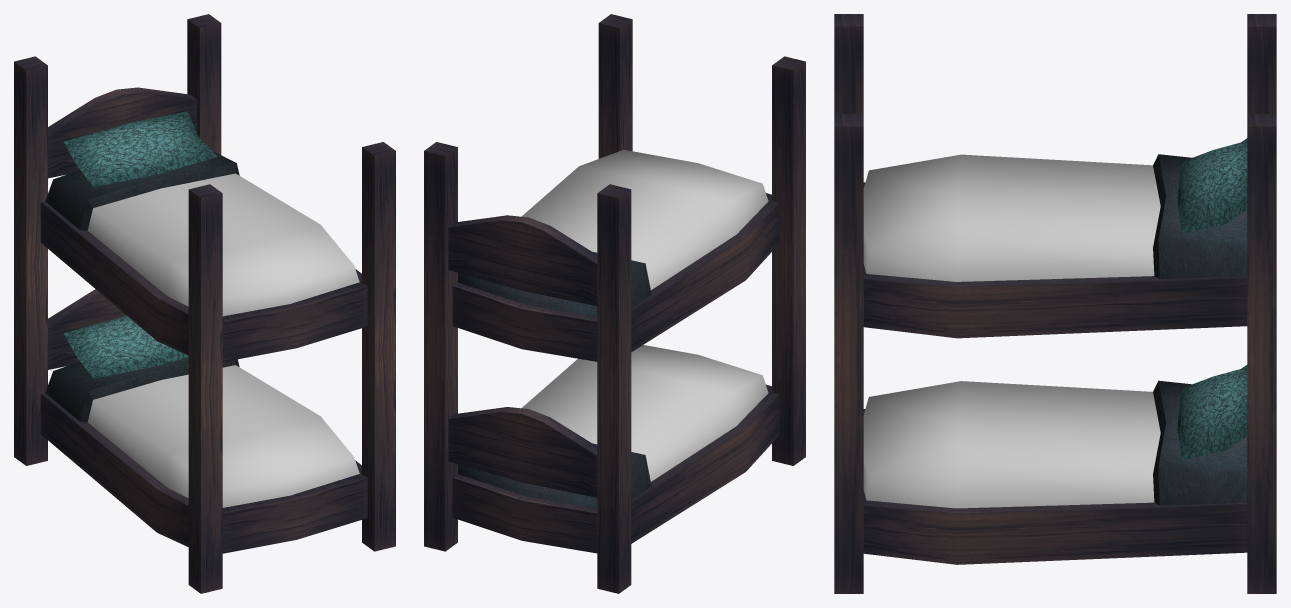
Rendered from Bed_Bunk_D.fbx.
3 renders of one model, left to right at view 1: azimuth 30°, elevation 25°; view 2: azimuth 150°, elevation 25°; view 3: azimuth 270°, elevation 25°, orthographic. The views are drawn at different scales.
Visible parts, largest first — view 1: Bed_Bunk_D; view 2: Bed_Bunk_D; view 3: Bed_Bunk_D.
Part boxes in pixels (box(x1,y1,x2,y2)): Bed_Bunk_D: box(14, 14, 395, 593); Bed_Bunk_D: box(424, 14, 805, 593); Bed_Bunk_D: box(834, 14, 1276, 593).
Bounding box in the file's own units: 0.3117 × 0.6043 × 0.5181.
